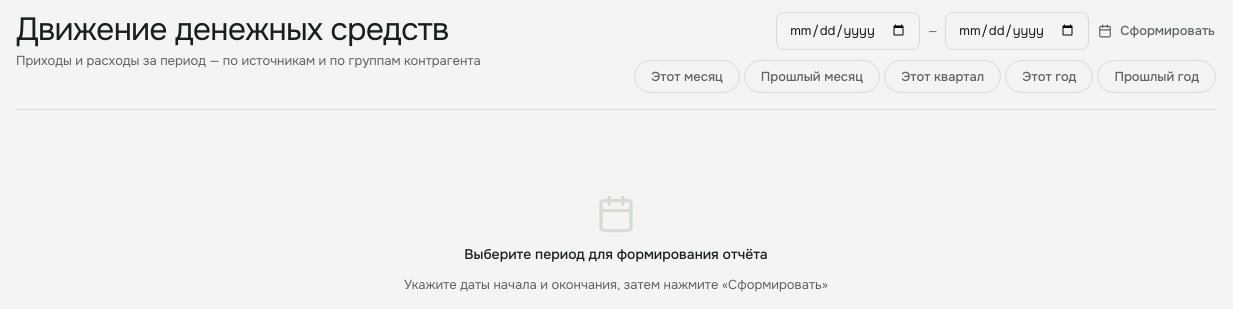
CashFlowReport › ошибка от сервера показывается пользователю
Type "2026-01-01" into the date field named "Дата начала" at coordinates (848, 31), box top-left (776, 12), bottom-right (920, 50)
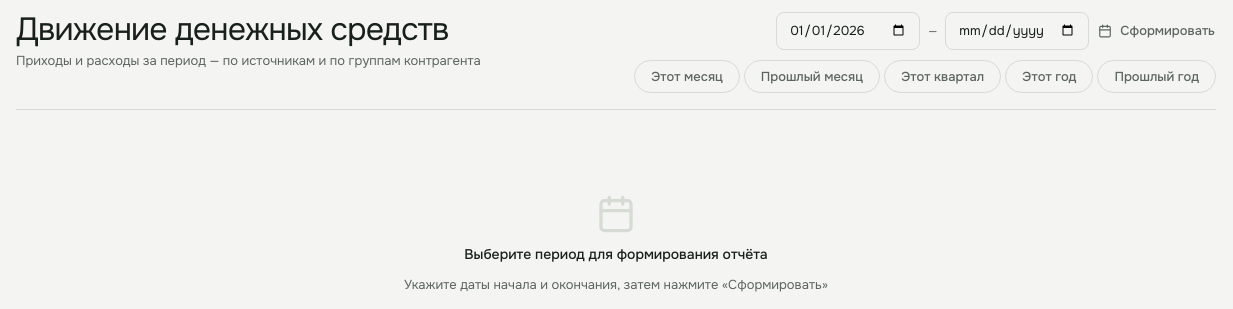
Type "2026-06-30" into the date field named "Дата окончания" at coordinates (1017, 31), box top-left (945, 12), bottom-right (1089, 50)
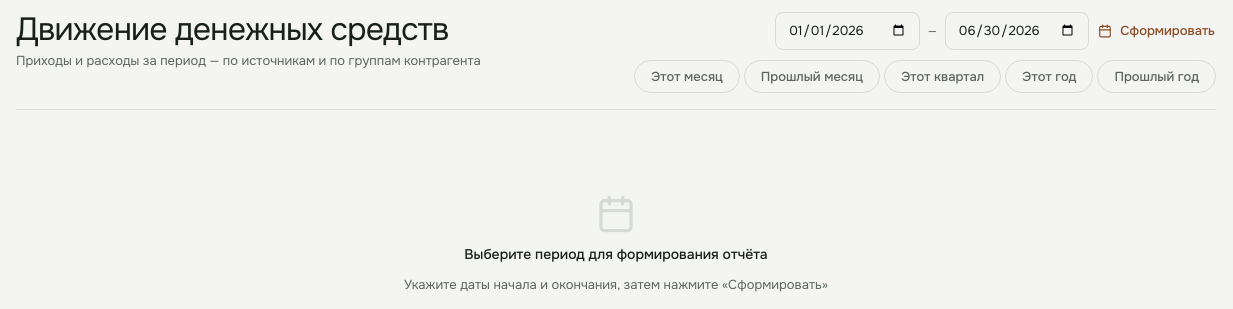
Click the button "Сформировать" at coordinates (1157, 31), box top-left (1097, 20), bottom-right (1216, 42)
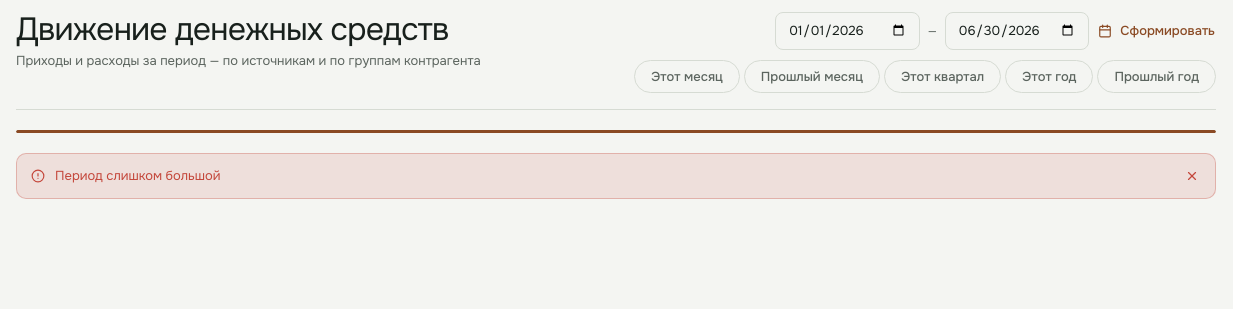
Expected: the text "Период слишком большой" is shown, top-left (55, 167), bottom-right (220, 184)
